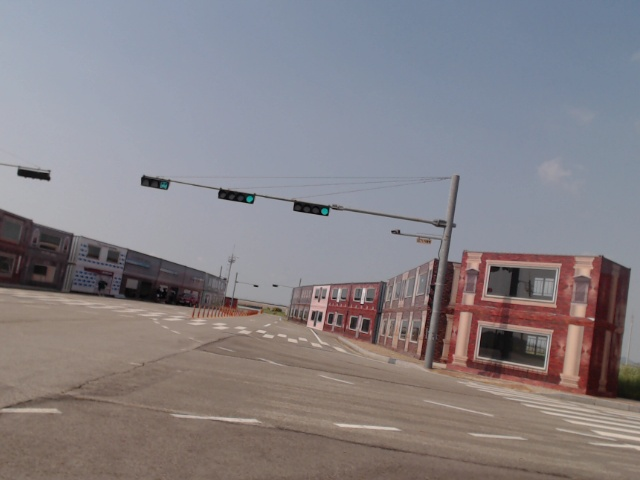straight_green_4: (217, 188, 256, 206), (294, 201, 331, 216)
